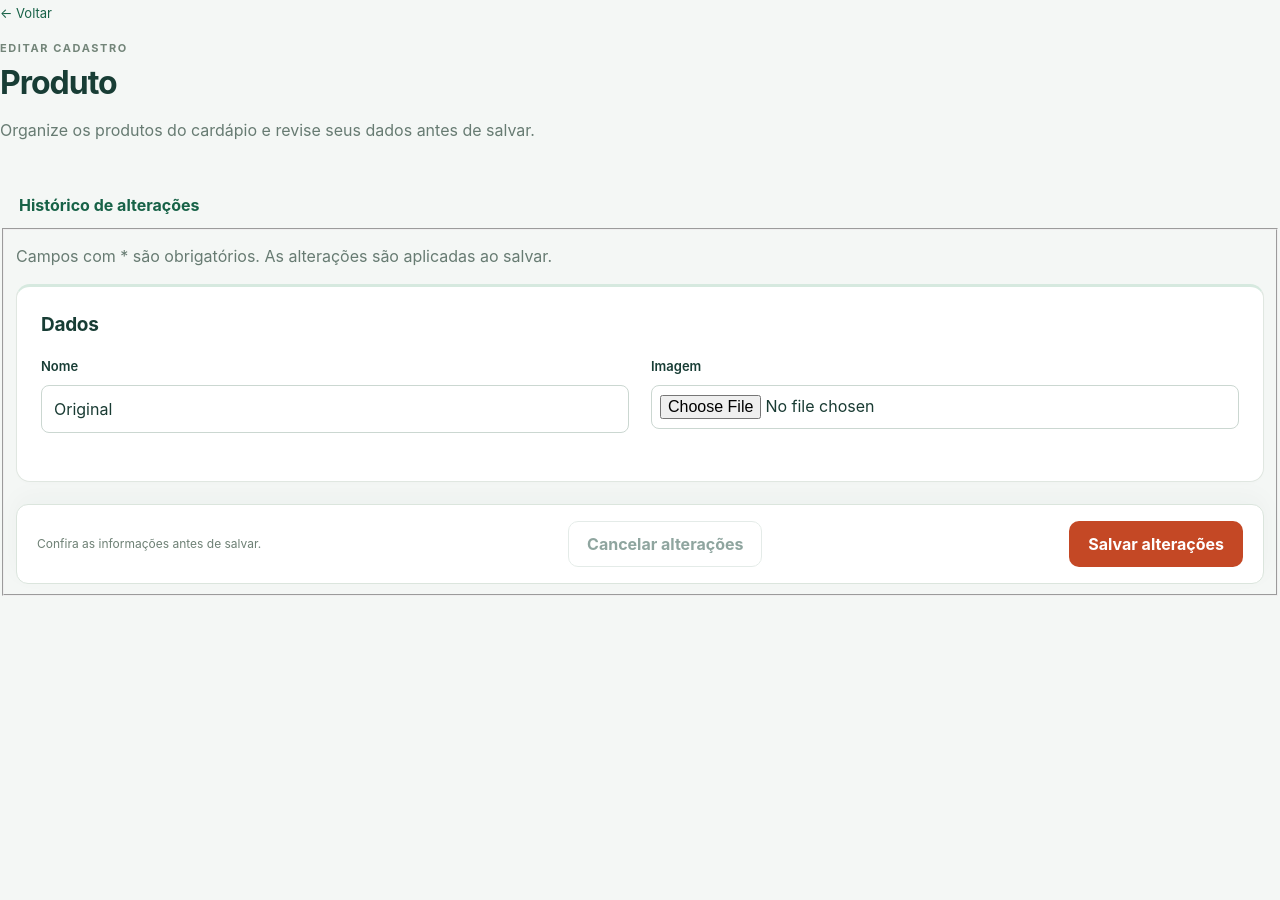
Test case: preserves text and the selected file input after API validation errors
Earlier steps of the test are not shown.
Replace the text in the field labelled "Nome" with "Editado": {"x": 335, "y": 409} [41,385,629,433]
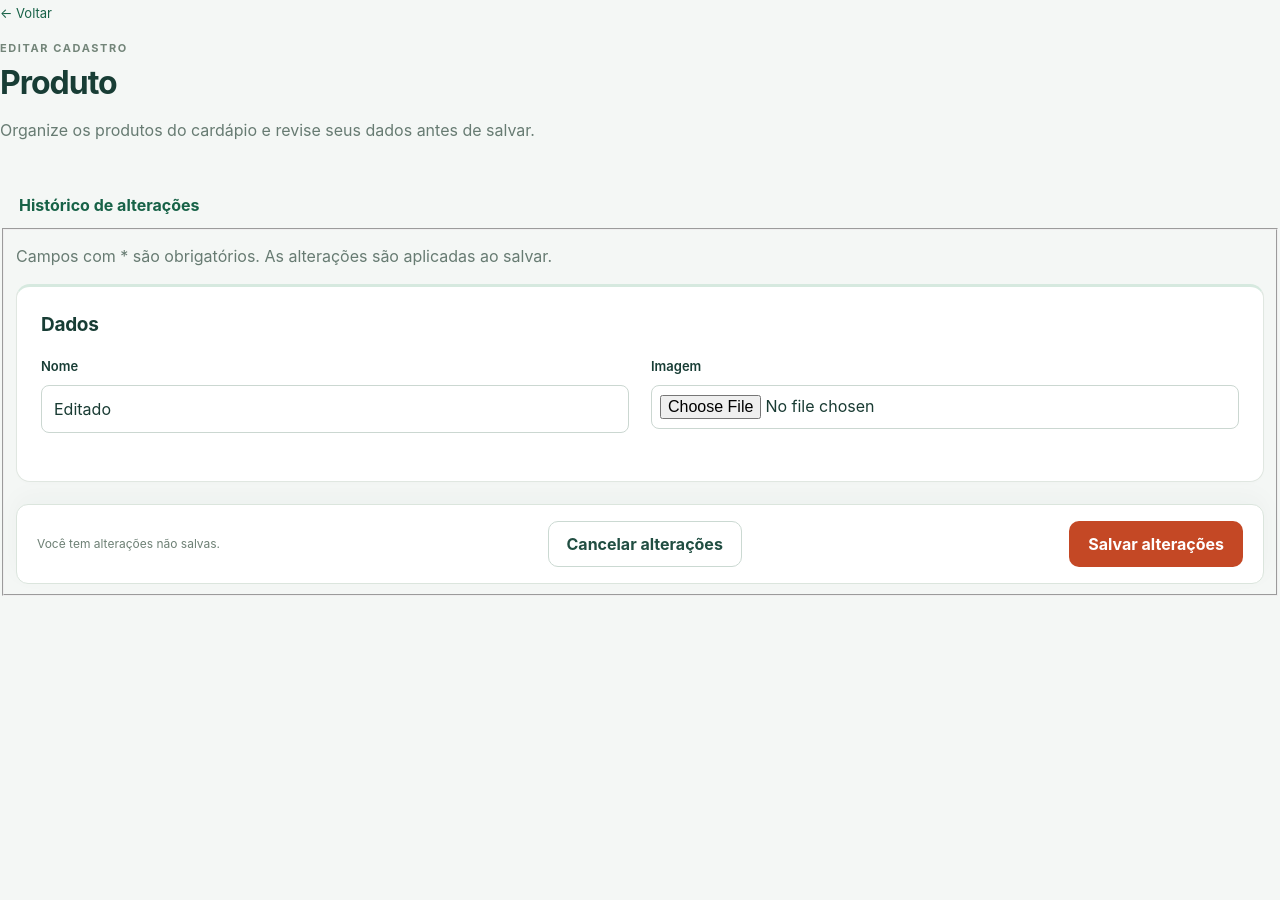
Submit the form, box [0,228,1279,596]
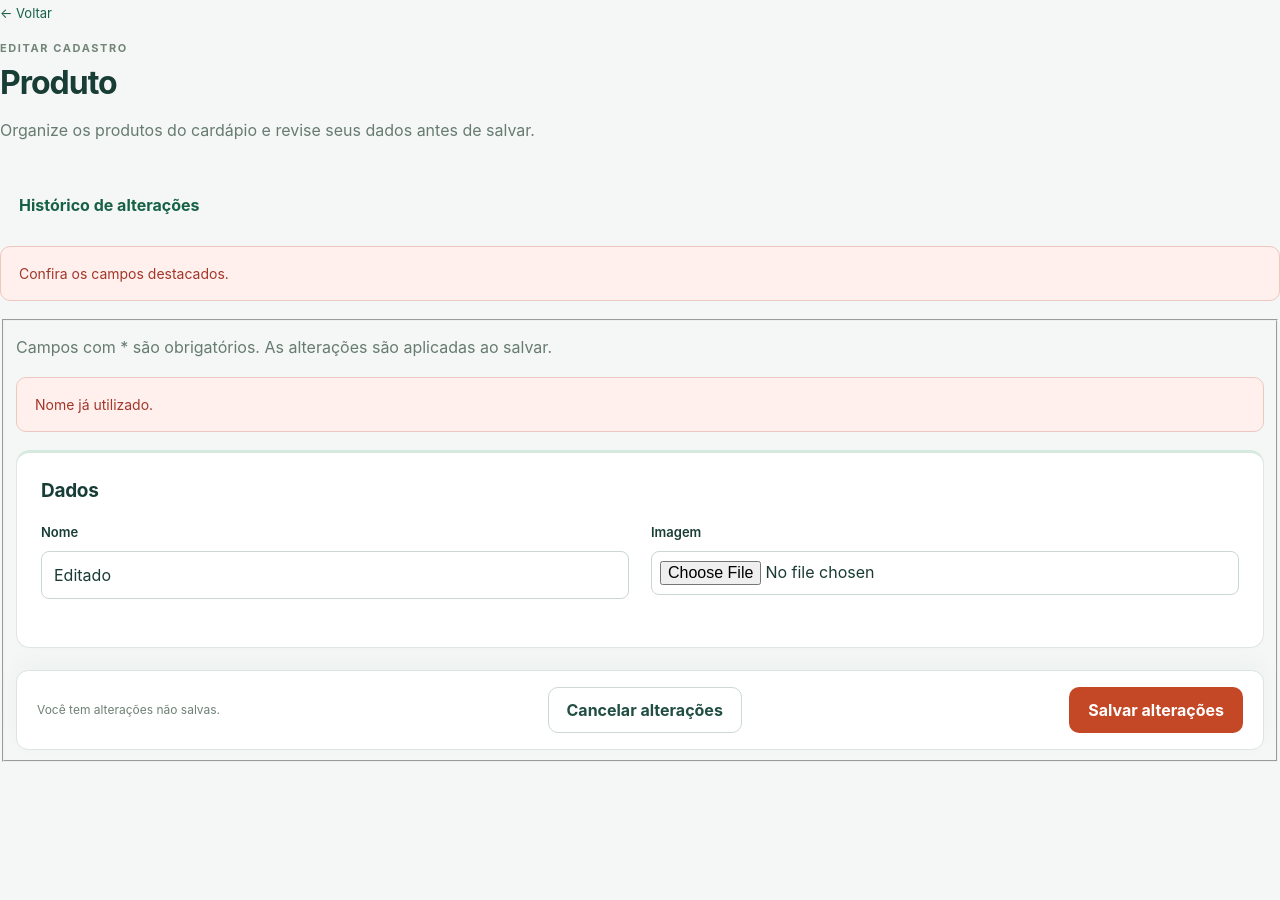
Expected: the text "Confira os campos destacados." is shown, [0,246,1279,301]
Click the link "← Voltar": {"x": 26, "y": 14} [0,4,52,24]
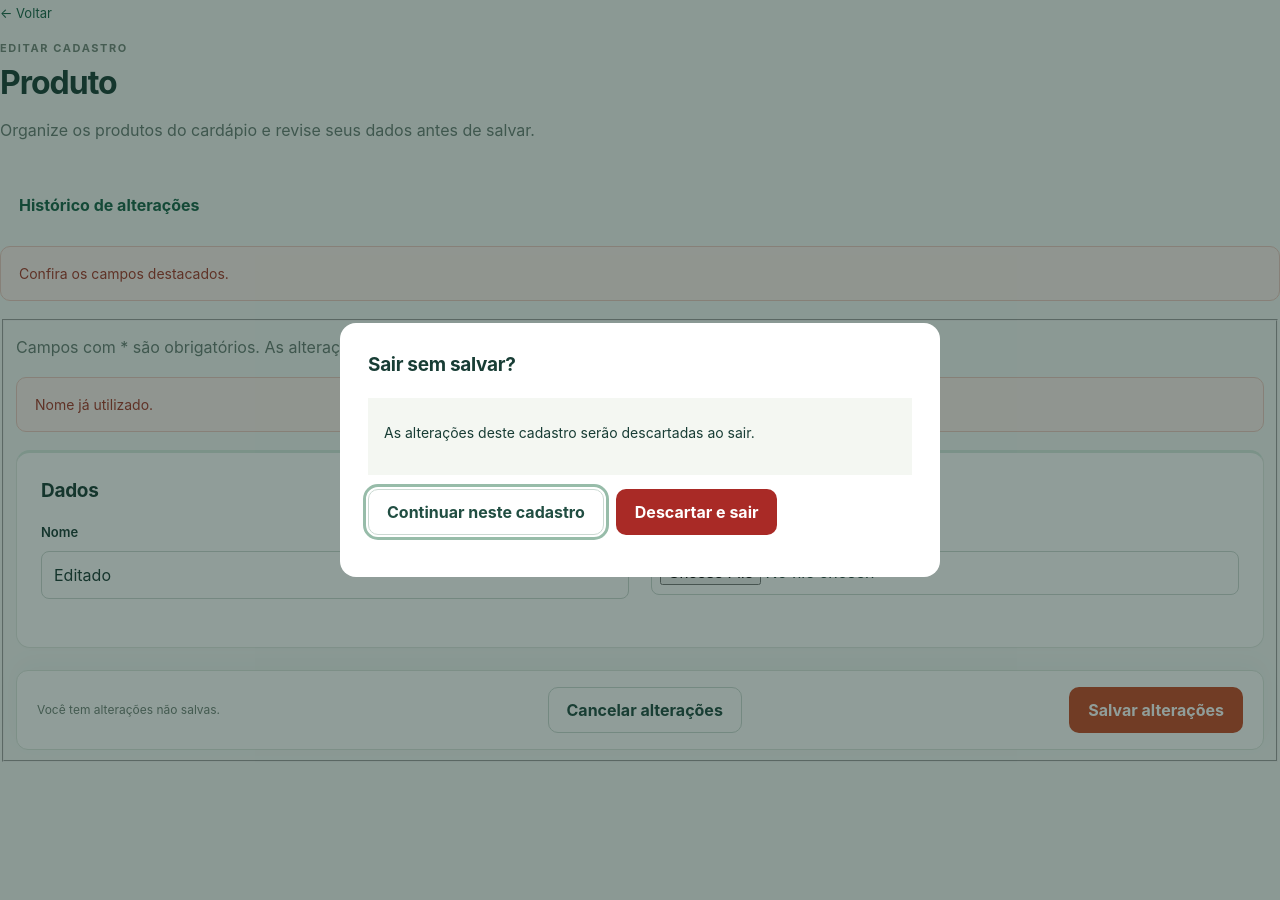
Expected: the heading "Sair sem salvar?" is shown, [368,353,516,376]
